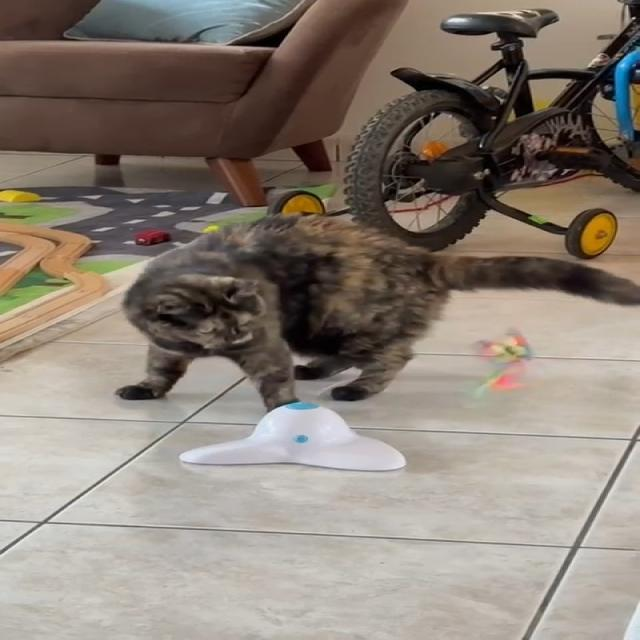authorized: (113, 211, 639, 413)
